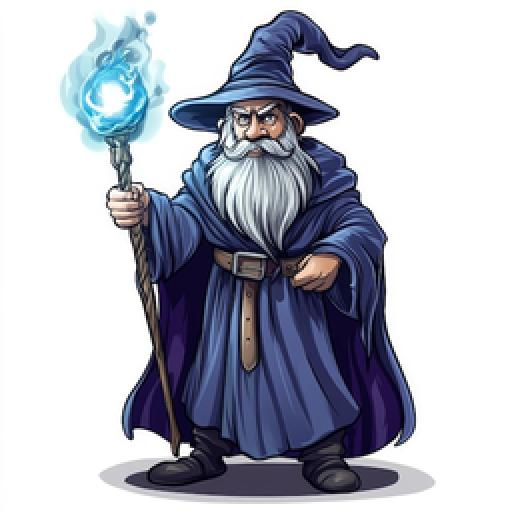wizards: (55, 7, 436, 495)
